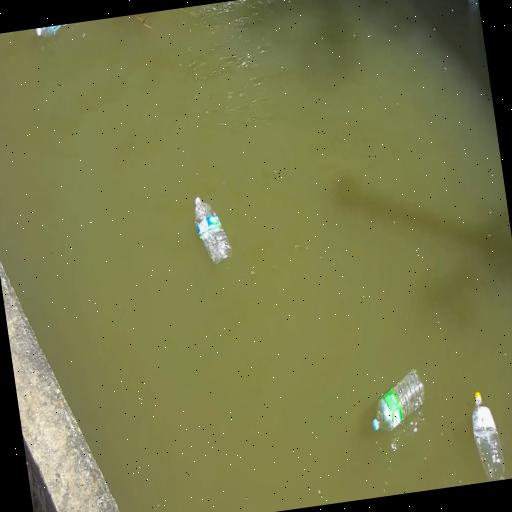plastic: (372, 370, 423, 430), (471, 392, 503, 480), (194, 198, 231, 264), (35, 24, 66, 37)
